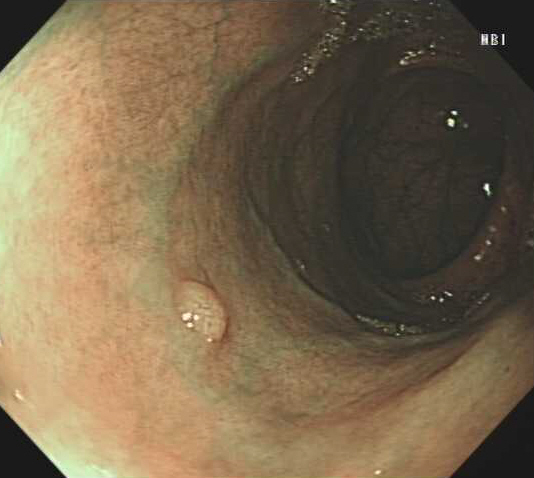others: (170, 273, 231, 346)
